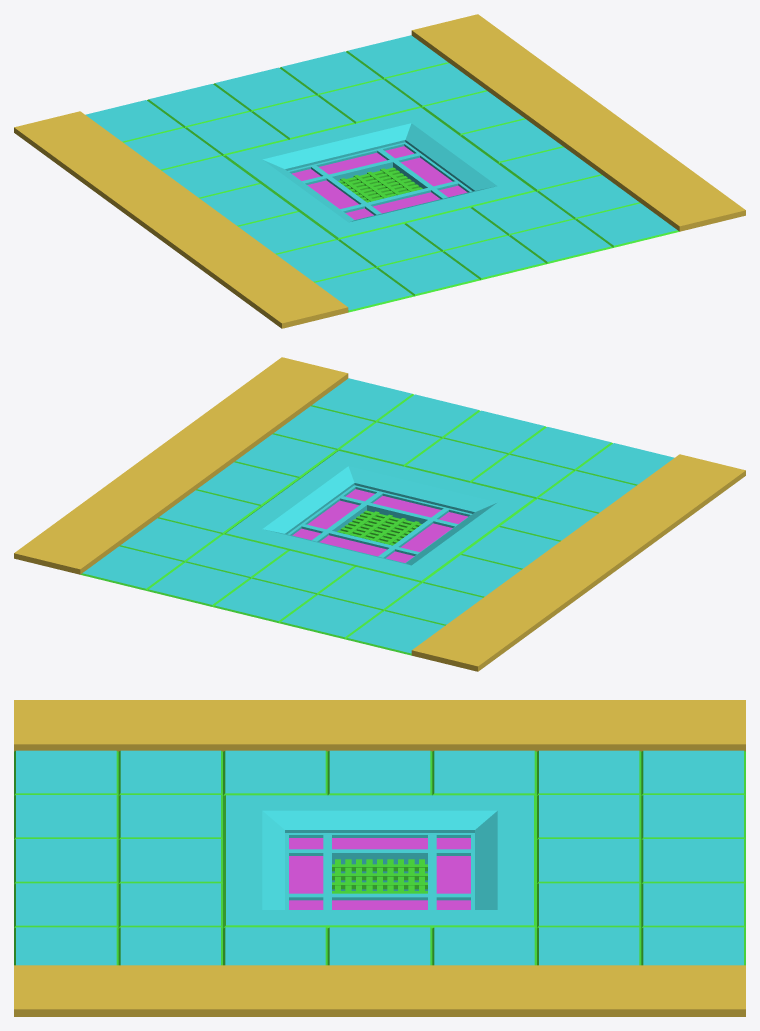
The model's file is Floor_09_A.fbx.
The picture shows the model from 3 angles, top to bottom: view 1: azimuth 30°, elevation 25°; view 2: azimuth 150°, elevation 25°; view 3: azimuth 270°, elevation 25°; orthographic projection. The views are drawn at different scales.
Parts seen in each view (by area): view 1: Floor_09_A; view 2: Floor_09_A; view 3: Floor_09_A.
Boxes of the visible parts, x1=… form: Floor_09_A: x1=14, y1=14, x2=745, y2=328; Floor_09_A: x1=14, y1=357, x2=745, y2=671; Floor_09_A: x1=14, y1=700, x2=745, y2=1016.
Size of what is drawn, in the model's own units: 457 by 39.16 by 457.
